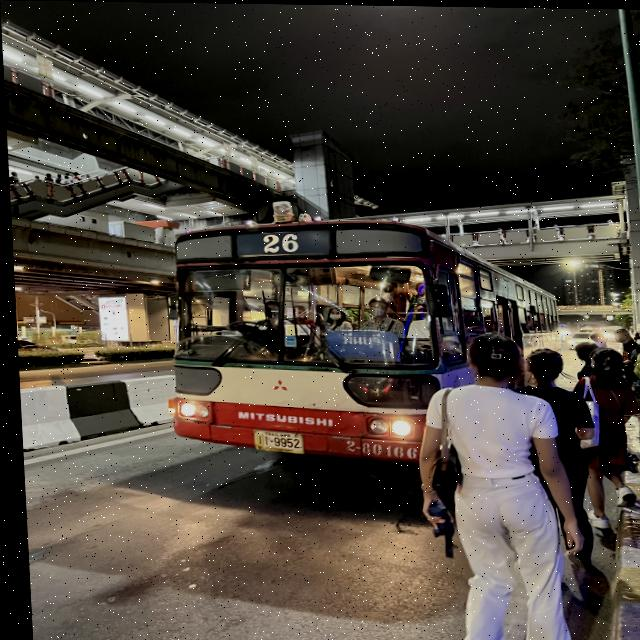BMTA-bus: (155, 215, 559, 467)
Bus-Line-Number: (249, 227, 311, 254)
Destination-Sign-Normal: (323, 329, 396, 359)
